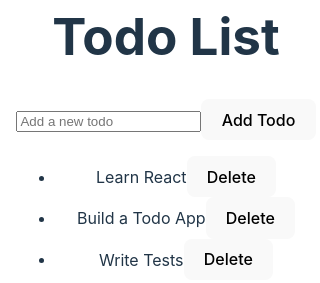
Test: allow user to delete a task
Click the button "Delete" next to "Learn React" at (231, 177), box [187,156,276,198]
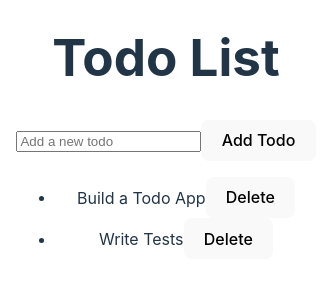
Check: the list item "Learn React" is gone
